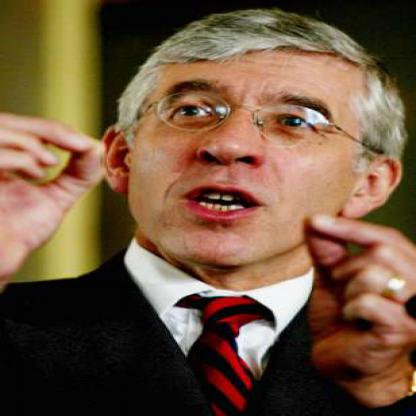face: (129, 11, 375, 273)
